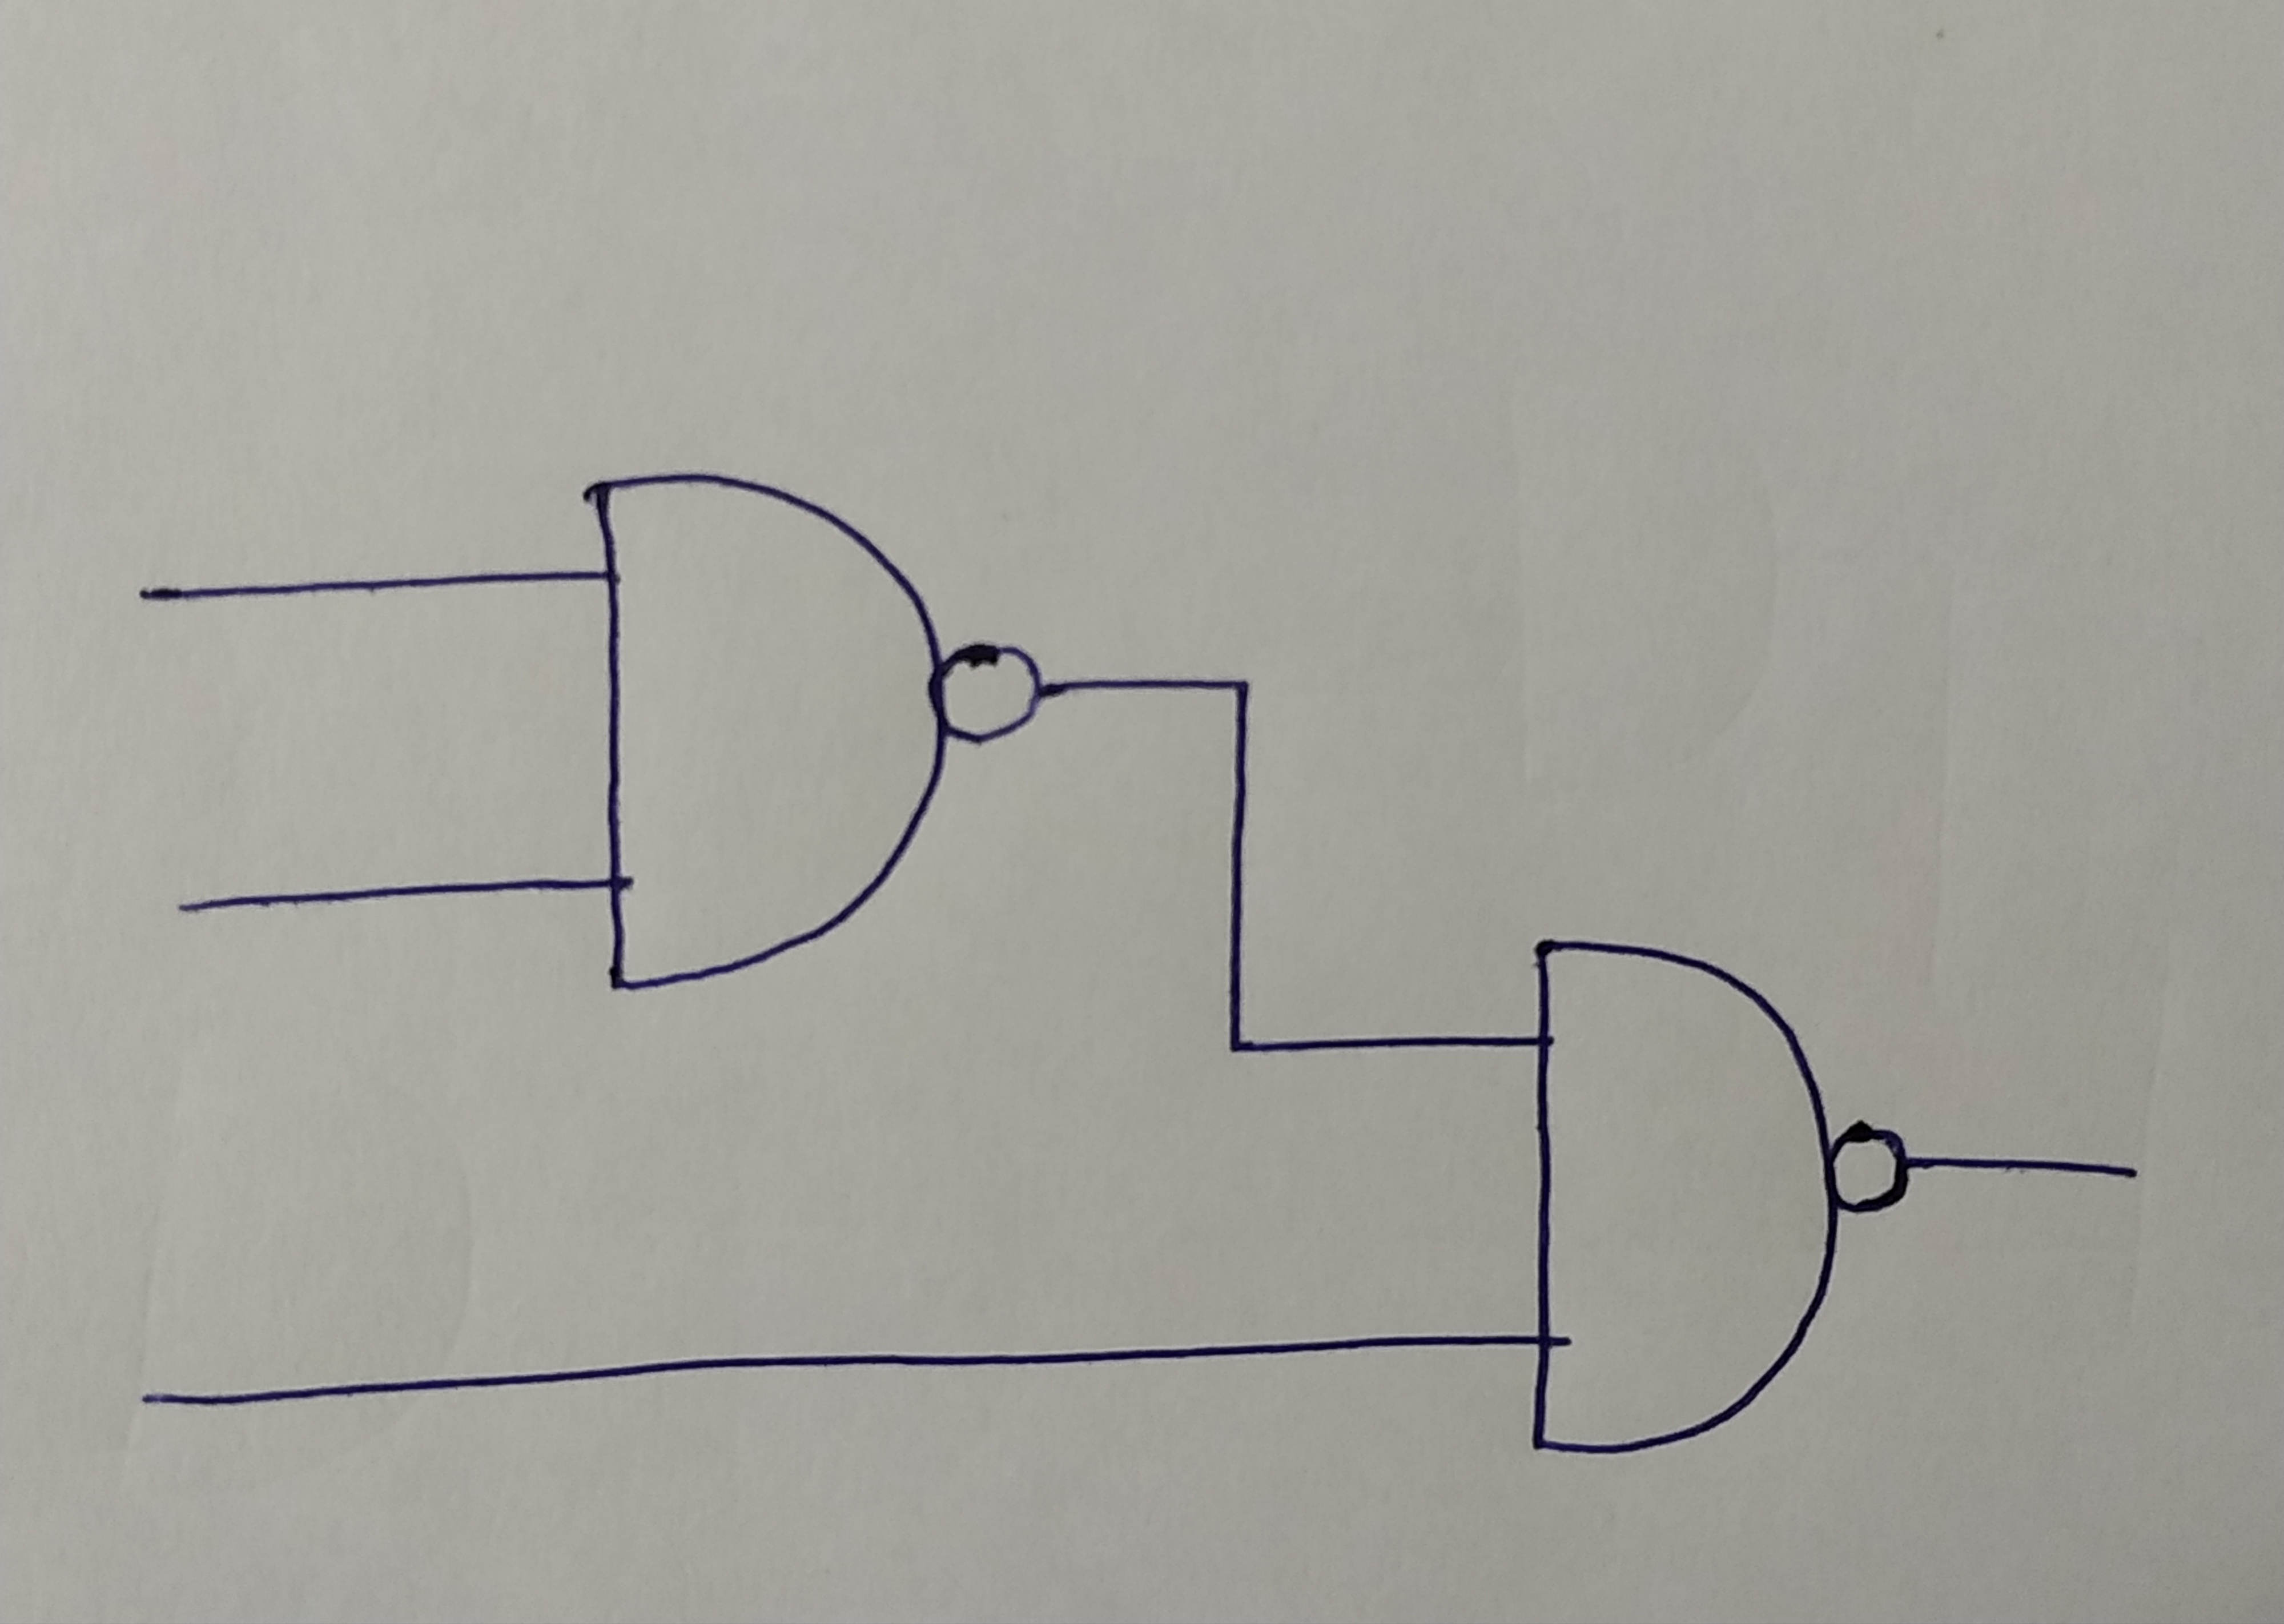and: (589, 473, 938, 993), (1529, 937, 1831, 1455)
not: (929, 650, 1035, 738), (1829, 1121, 1908, 1207)
